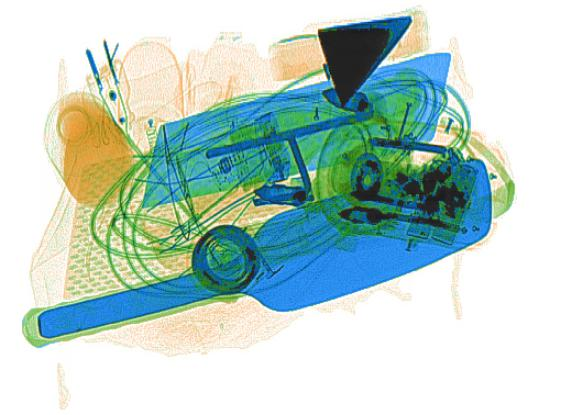battery: (407, 159, 484, 243)
